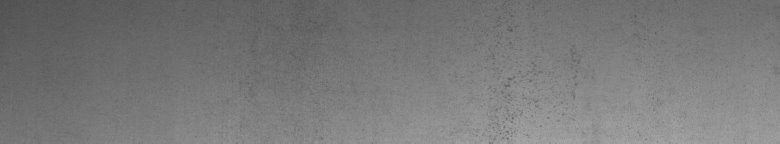ib: (496, 25, 580, 134)
